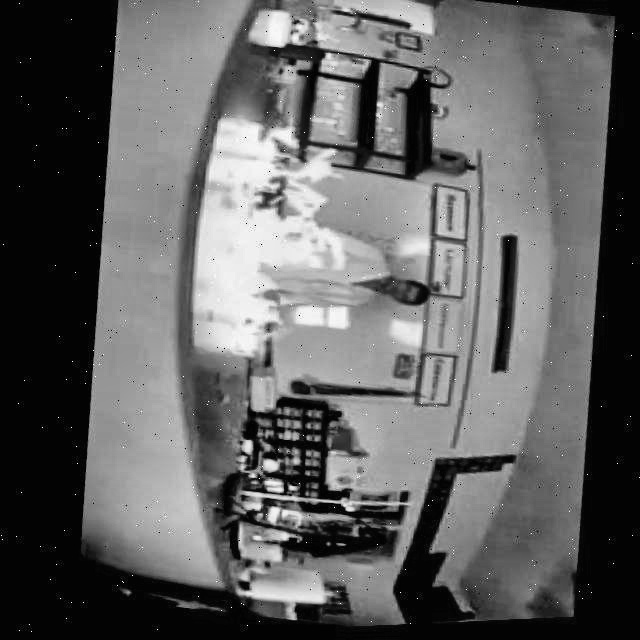Fire: (194, 114, 374, 380)
